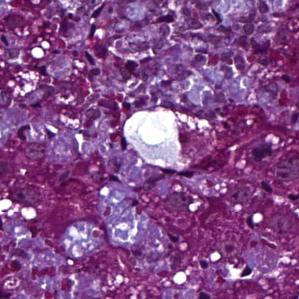ballooning: (122, 107, 219, 175)
